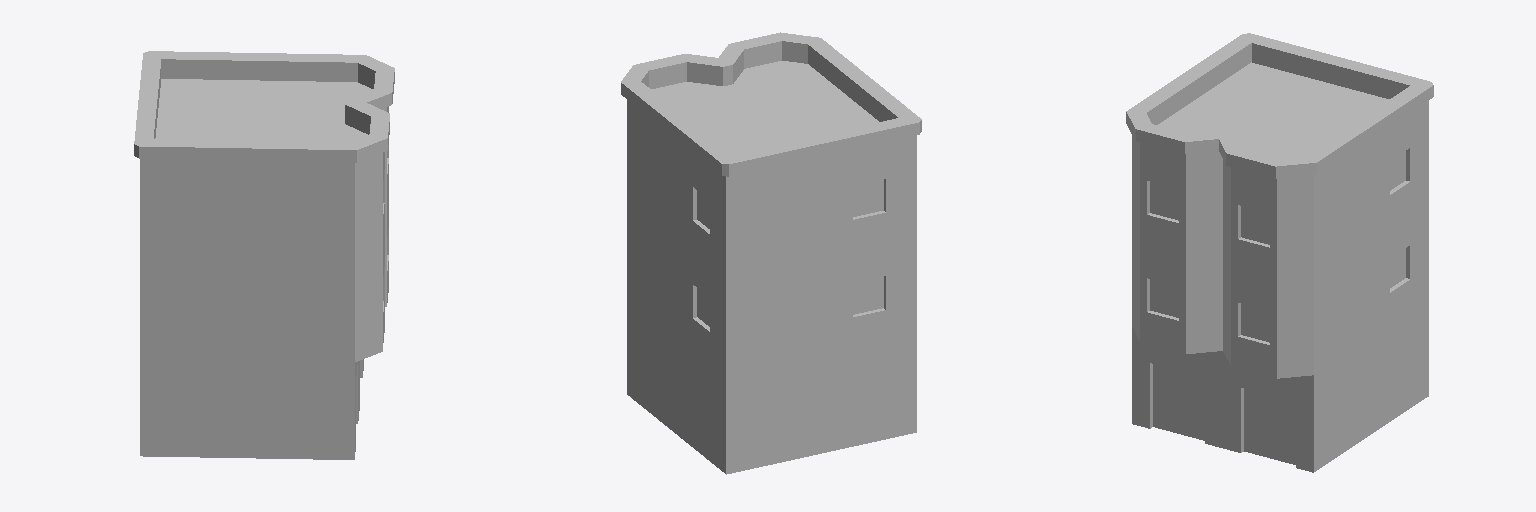
Rendered from variant_33.obj.
3 renders of one model, left to right at view 1: azimuth 30°, elevation 25°; view 2: azimuth 150°, elevation 25°; view 3: azimuth 270°, elevation 25°, orthographic.
Visible parts, largest first — view 1: small_buildingA; view 2: small_buildingA; view 3: small_buildingA.
Boxes of the visible parts, x1=… form: small_buildingA: x1=134, y1=51, x2=394, y2=459; small_buildingA: x1=621, y1=32, x2=921, y2=474; small_buildingA: x1=1126, y1=33, x2=1433, y2=472.
Size of the model in its own units: 1.17 by 1.28 by 1.14.